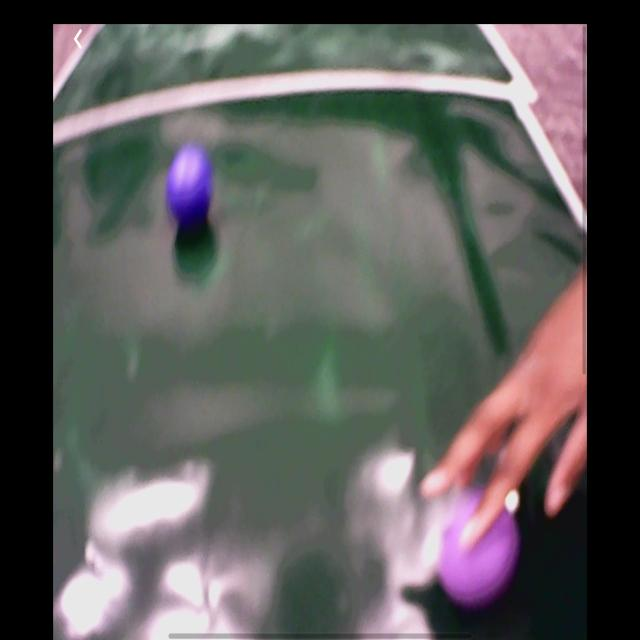ball: (436, 490, 521, 610), (167, 146, 215, 228)
